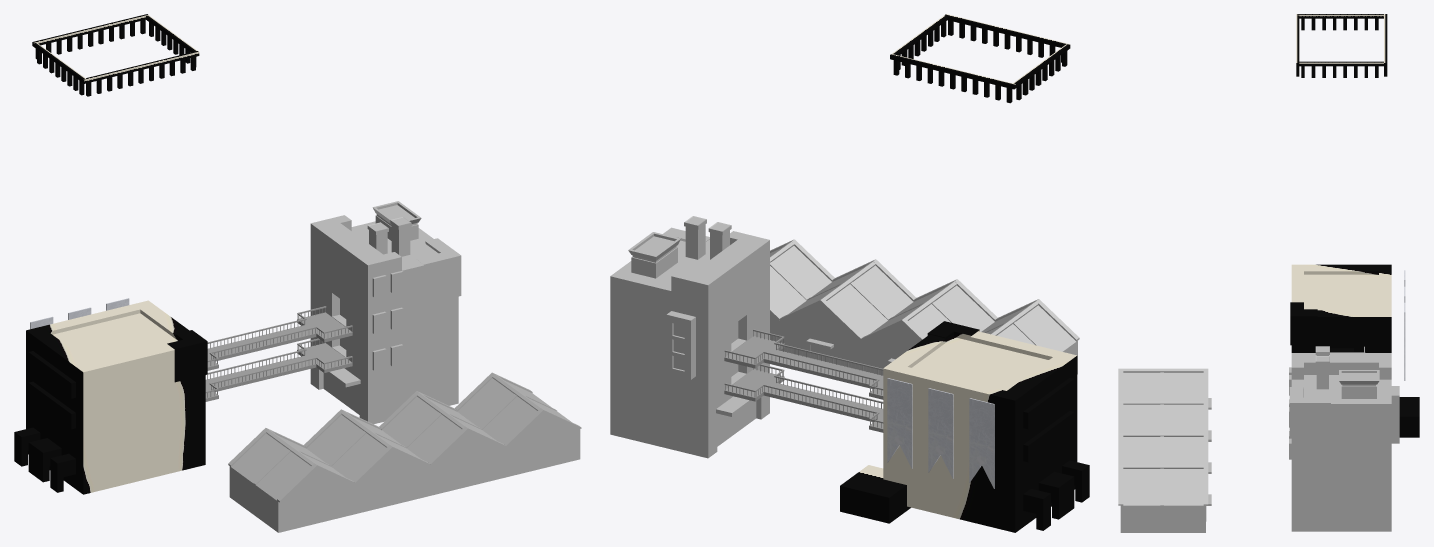
The model's file is house123.fbx.
3 renders of one model, left to right at view 1: azimuth 30°, elevation 25°; view 2: azimuth 150°, elevation 25°; view 3: azimuth 270°, elevation 25°, orthographic. The views are drawn at different scales.
Visible parts, largest first — view 1: pCube10, pCube11, pCube159, pCube9, pCube158, pCube157, pCube23, pCube153, pCube154; view 2: pCube11, pCube10, pCube157, pCube23, pCube158, pCube154, pCube153, pCube9, pCube159, pCube5, pCube15, pCube156 (+1 smaller); view 3: pCube11, pCube10, pCube9, pCube159, pCube158, pCube157, pCube23, pCube5.
Part boxes in pixels (<box>): pCube10: <box>14,300,207,494</box>; pCube11: <box>310,201,461,424</box>; pCube159: <box>228,428,355,532</box>; pCube9: <box>454,372,581,477</box>; pCube158: <box>304,409,430,514</box>; pCube157: <box>379,391,505,495</box>; pCube23: <box>32,14,199,96</box>; pCube153: <box>205,338,352,401</box>; pCube154: <box>207,306,352,370</box>; pCube11: <box>610,216,769,458</box>; pCube10: <box>883,321,1089,532</box>; pCube157: <box>779,259,916,370</box>; pCube23: <box>890,14,1070,103</box>; pCube158: <box>861,279,997,375</box>; pCube154: <box>724,329,883,399</box>; pCube153: <box>724,364,883,432</box>; pCube9: <box>770,239,834,350</box>; pCube159: <box>981,299,1079,374</box>; pCube5: <box>840,465,910,523</box>; pCube15: <box>969,398,994,488</box>; pCube156: <box>887,378,912,468</box>; pCube11: <box>1289,346,1399,531</box>; pCube10: <box>1290,264,1391,352</box>; pCube9: <box>1118,465,1211,532</box>; pCube159: <box>1118,368,1211,409</box>; pCube158: <box>1118,400,1211,441</box>; pCube157: <box>1118,432,1211,473</box>; pCube23: <box>1296,14,1387,77</box>; pCube5: <box>1399,397,1419,437</box>.
Size of the model in its own units: 18.24 by 17.36 by 13.07.
